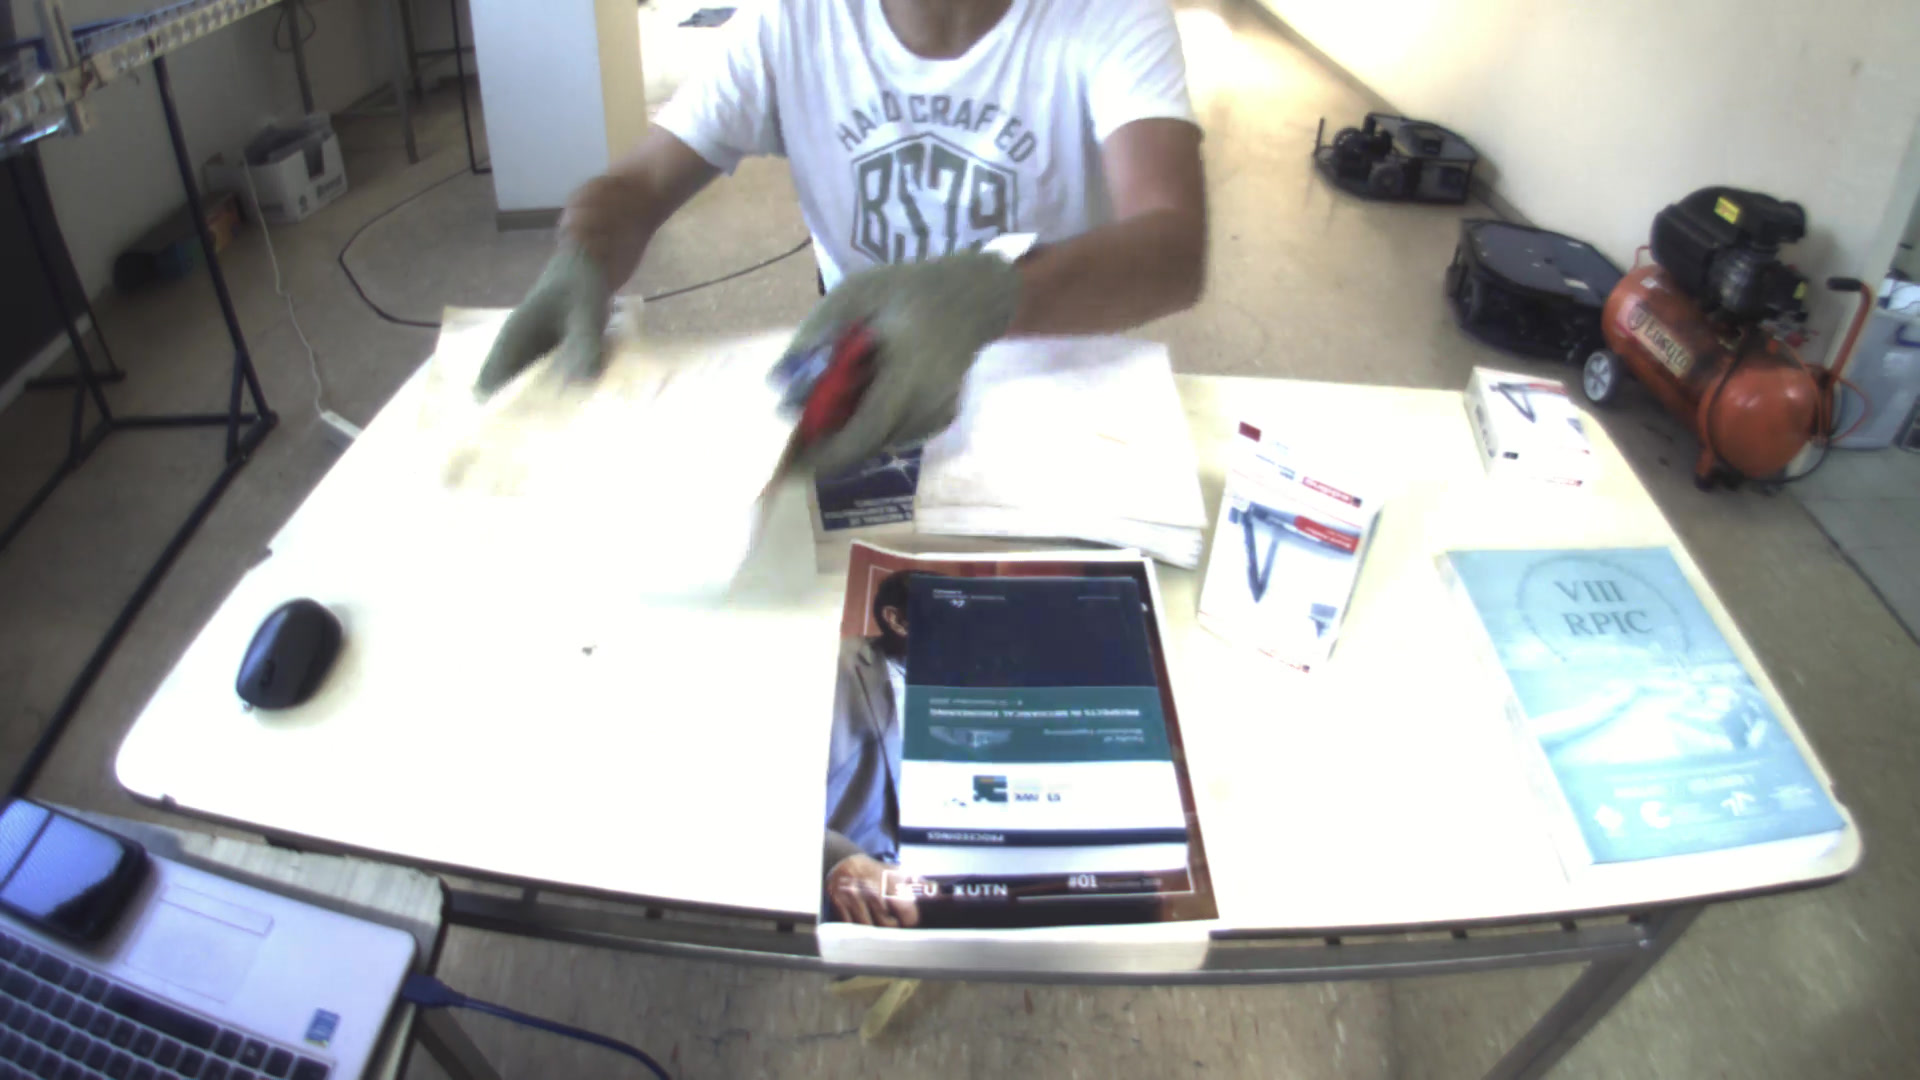hand: (765, 239, 1029, 469), (477, 243, 616, 400)
